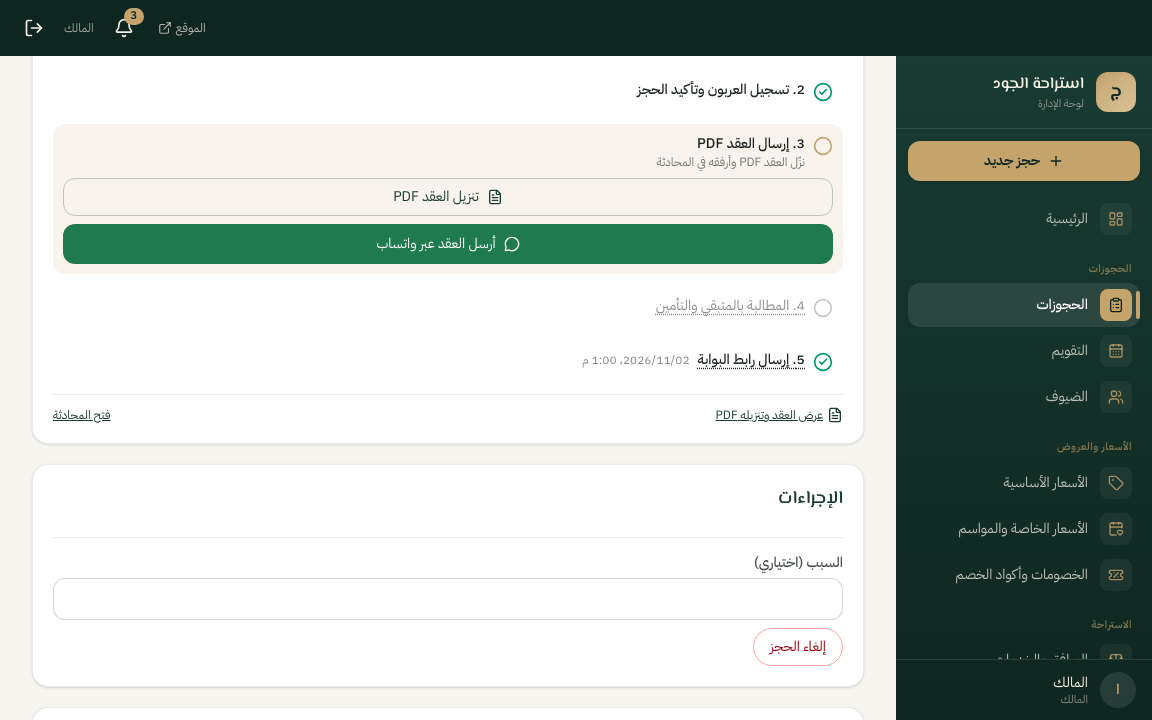
Scenario: guest portal link (last step) › marks the step done when a link is active, and can issue a new one
(page scrolled)
Click the button "5. إرسال رابط البوابة": (751, 360) top-left (698, 350), bottom-right (805, 370)
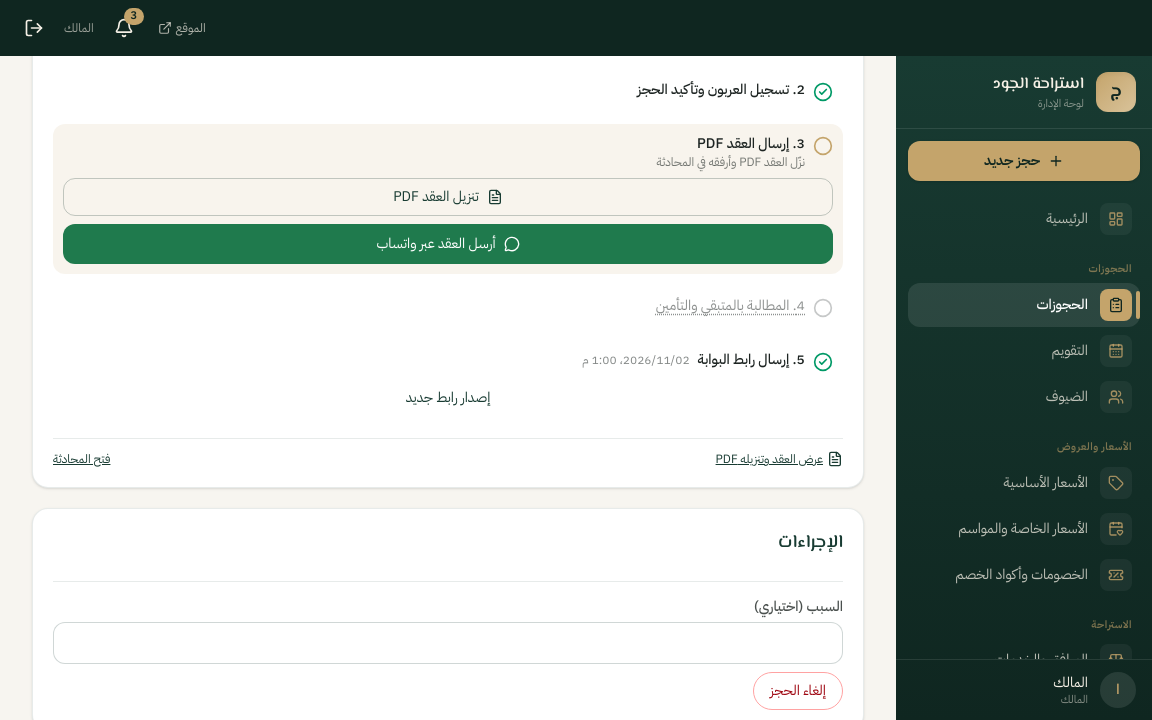
Expected: the button "إصدار رابط جديد" is shown, top-left (63, 380), bottom-right (833, 416)
